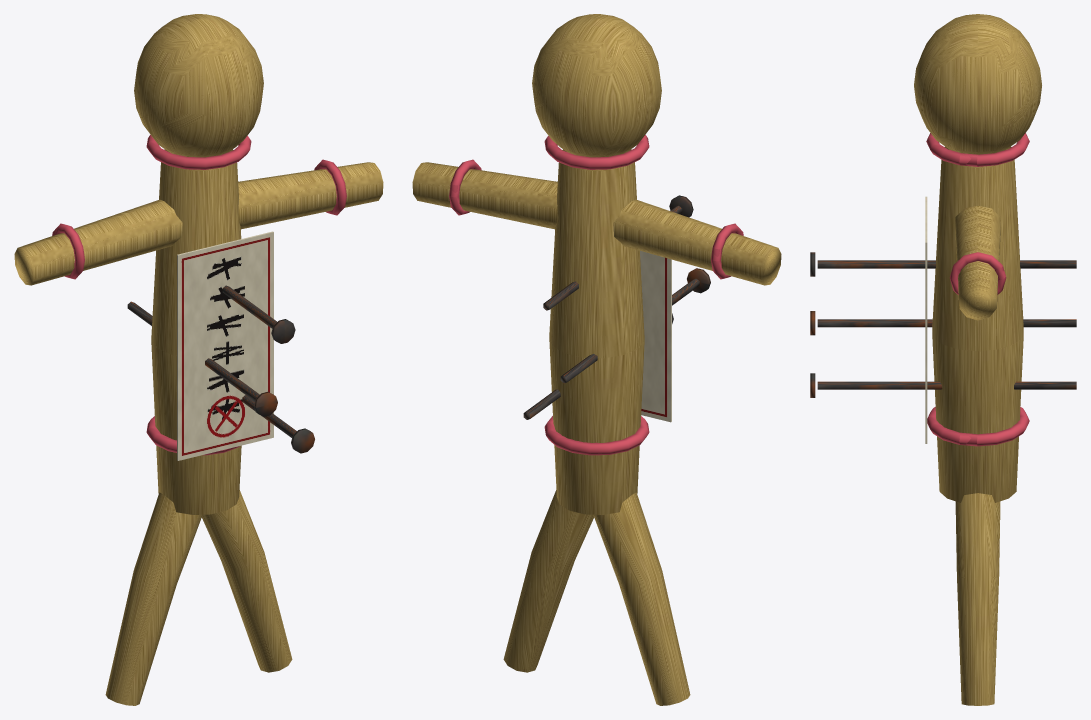
File: 藁人形_wara.glb
3 views of the same model, side by side, from view 1: azimuth 30°, elevation 25°; view 2: azimuth 150°, elevation 25°; view 3: azimuth 270°, elevation 25° (orthographic). The views are drawn at different scales.
Visible parts, largest first — view 1: wara; view 2: wara; view 3: wara.
Boxes of the visible parts, x1,y1,x2,y2 form: wara: (14,14,383,705); wara: (412,14,781,705); wara: (810,14,1076,705).
Bounding box in the file's own units: 0.161 × 0.2919 × 0.108.
4 materials, 3 textured.
